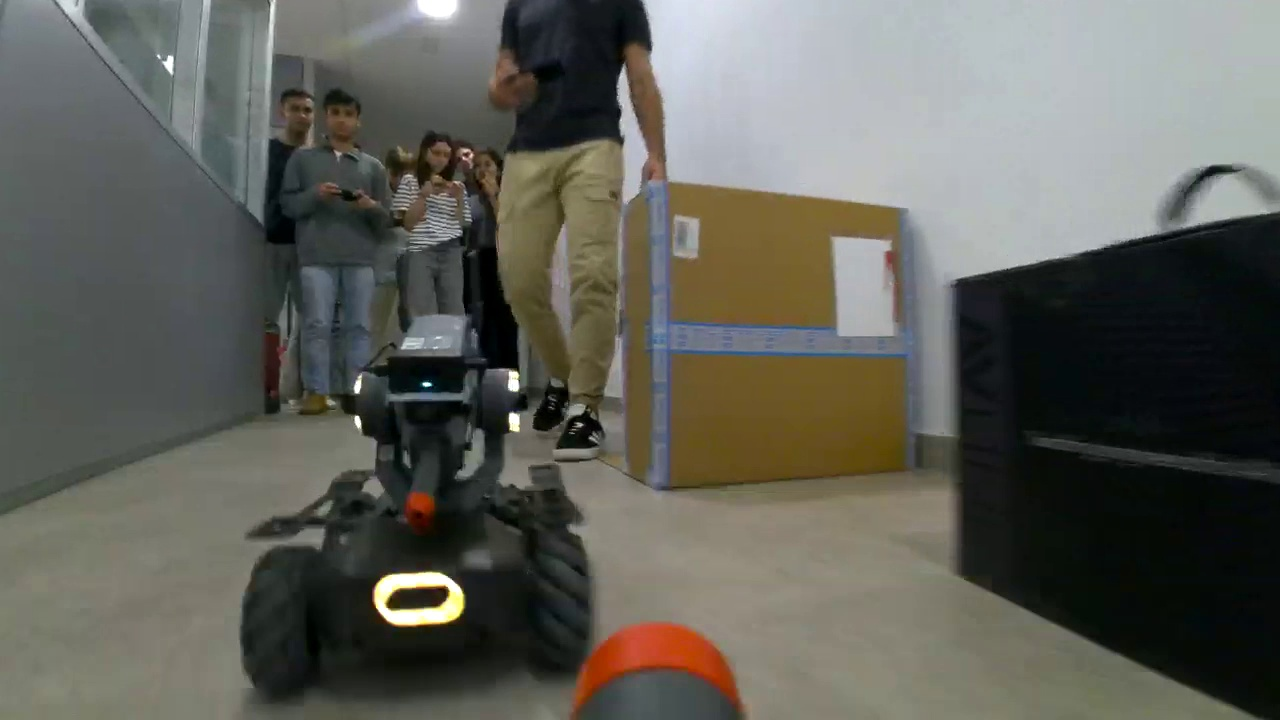robot: (239, 312, 597, 703)
